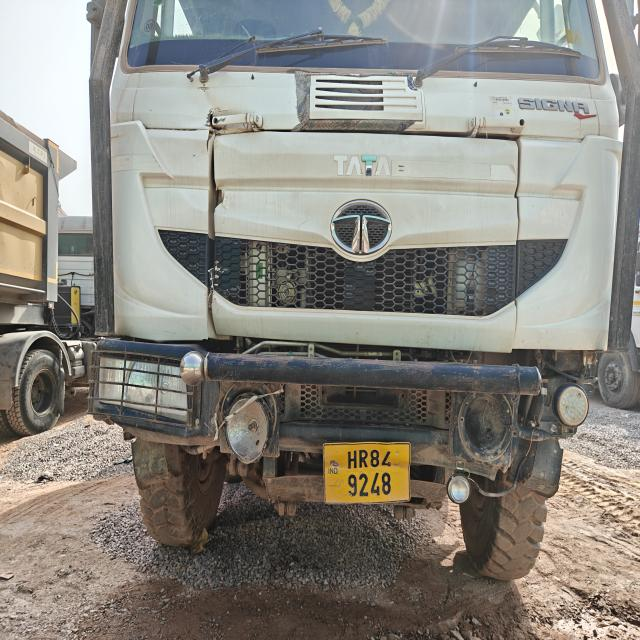license_plate: (324, 443, 410, 503)
